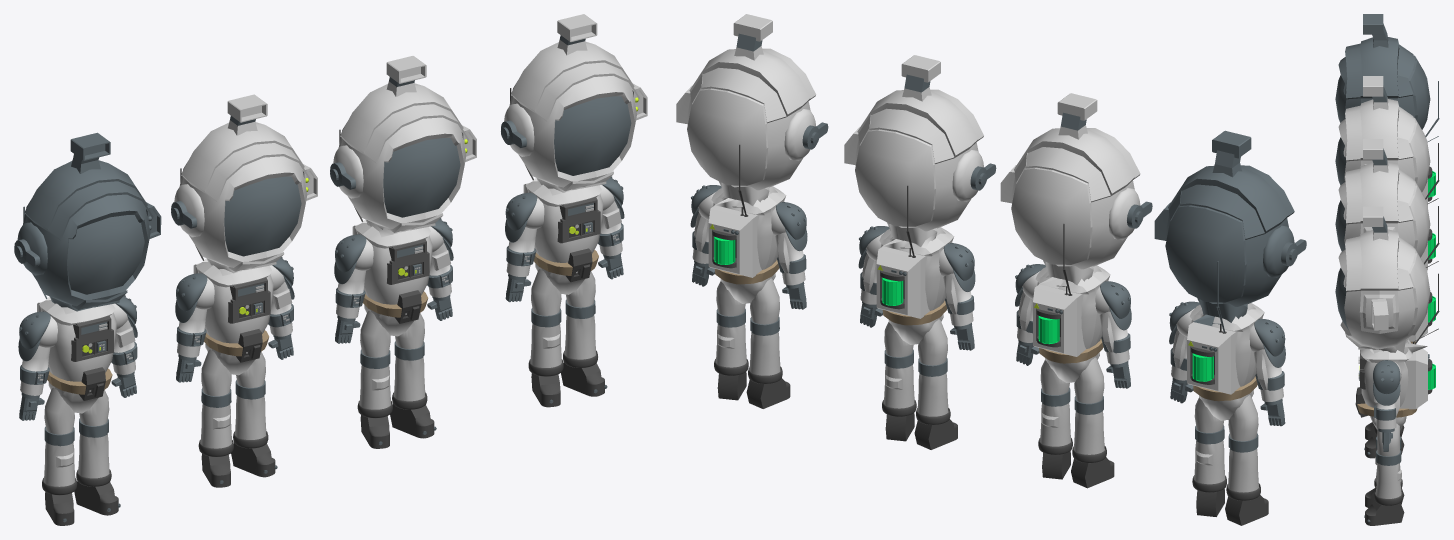
The model's file is Bobbleheads.fbx.
3 views of the same model, side by side, from view 1: azimuth 30°, elevation 25°; view 2: azimuth 150°, elevation 25°; view 3: azimuth 270°, elevation 25° (orthographic). The views are drawn at different scales.
Visible parts, largest first — view 1: Spaceman.004, Spaceman.006, Spaceman, Spaceman.002, Spaceman.010, Spaceman.011, Spaceman.009, Spaceman.008, Spaceman.001, Spaceman.007, Spaceman.003, Spaceman.005; view 2: Spaceman.004, Spaceman.006, Spaceman.002, Spaceman, Spaceman.010, Spaceman.011, Spaceman.009, Spaceman.008; view 3: Spaceman.009, Spaceman.006, Spaceman.008, Spaceman.010, Spaceman.011, Spaceman.004, Spaceman.007, Spaceman.005, Spaceman.001, Spaceman.003, Spaceman, Spaceman.002.
Part boxes in pixels (x1,y1,x2,y2): Spaceman.004: (334, 218, 453, 448); Spaceman.006: (505, 176, 624, 407); Spaceman: (175, 257, 294, 487); Spaceman.002: (18, 295, 137, 525); Spaceman.010: (171, 94, 317, 273); Spaceman.011: (14, 132, 161, 311); Spaceman.009: (501, 14, 647, 192); Spaceman.008: (330, 56, 476, 232); Spaceman.001: (224, 176, 301, 256); Spaceman.007: (554, 96, 631, 175); Spaceman.003: (67, 215, 144, 294); Spaceman.005: (383, 138, 460, 217); Spaceman.004: (858, 222, 975, 449); Spaceman.006: (690, 185, 807, 408); Spaceman.002: (1169, 301, 1285, 525); Spaceman: (1015, 264, 1131, 488); Spaceman.010: (1000, 93, 1152, 294); Spaceman.011: (1154, 130, 1306, 332); Spaceman.009: (676, 14, 828, 215); Spaceman.008: (844, 55, 996, 256); Spaceman.009: (1338, 206, 1439, 352); Spaceman.006: (1355, 339, 1435, 525); Spaceman.008: (1338, 139, 1439, 267); Spaceman.010: (1338, 76, 1439, 204); Spaceman.011: (1338, 14, 1439, 142); Spaceman.004: (1364, 264, 1435, 458); Spaceman.007: (1335, 268, 1349, 330); Spaceman.005: (1335, 200, 1346, 251); Spaceman.001: (1335, 137, 1346, 185); Spaceman.003: (1335, 75, 1346, 122); Spaceman: (1421, 229, 1435, 270); Spaceman.002: (1422, 167, 1435, 207).
Bounding box in the file's own units: 528 × 301 × 93.6.
